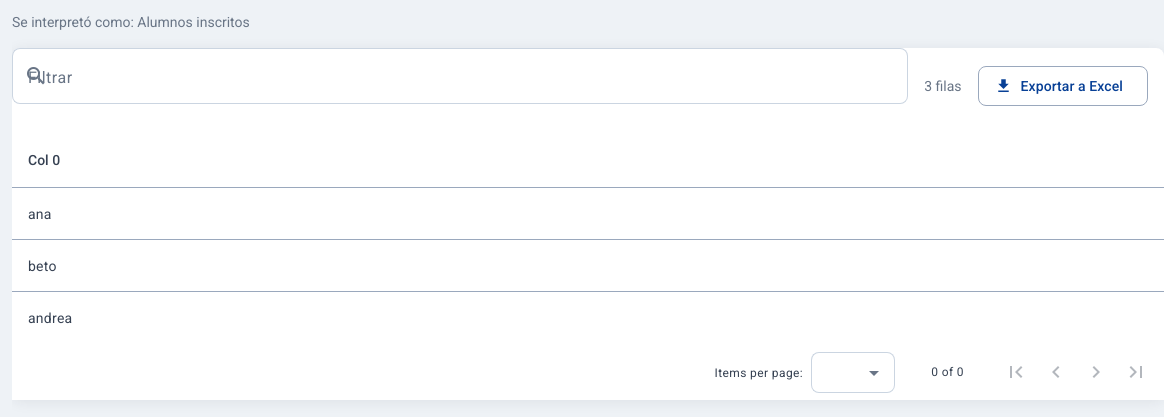
Scenario: ReportResultComponent › empty state and row count › shows filtered versus total while a filter is active
The image size is (1164, 417).
Step 1. Type "an" into the field with test id "report-filter" → (478, 76), box [64, 64, 892, 88]
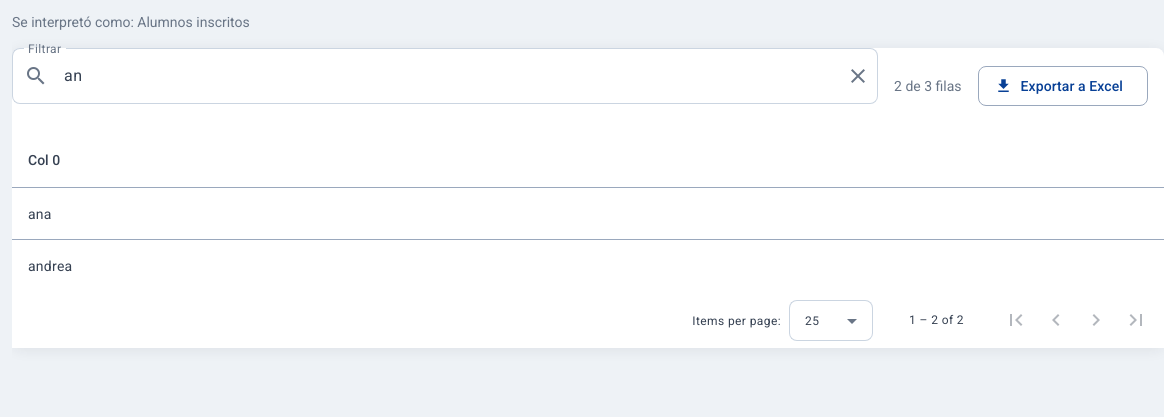
Expected: the text with test id "report-row-count" reads "2 de 3 filas", [894, 78, 962, 94]
